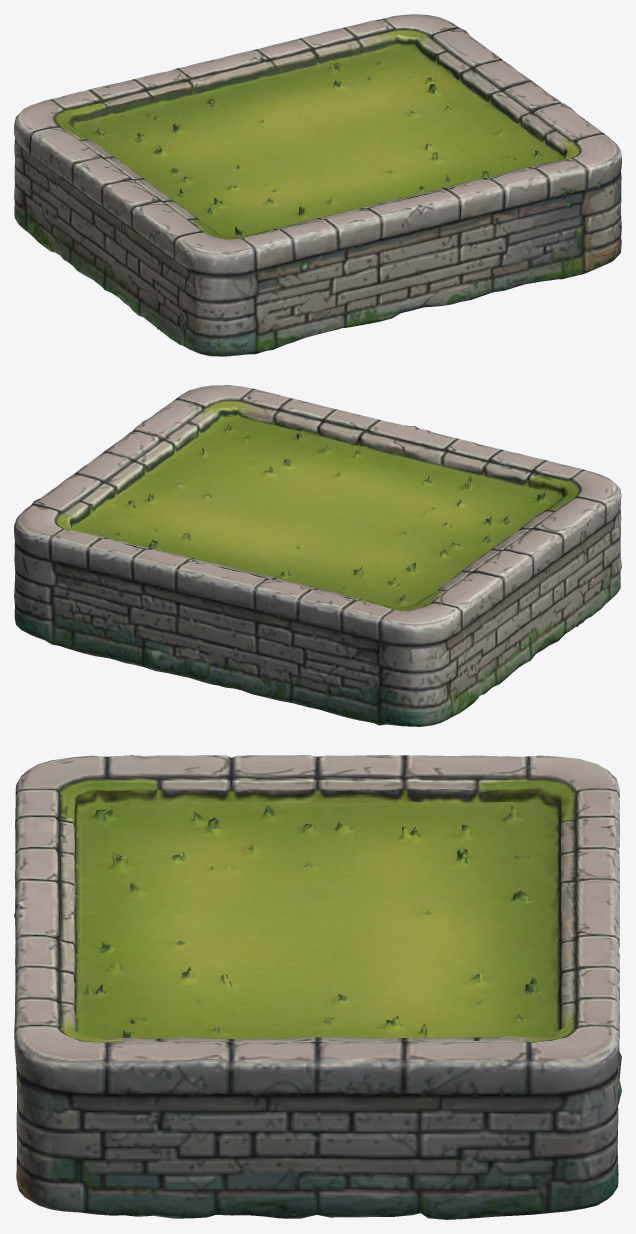
File: 롯데_섬지형.glb
3 renders of one model, top to bottom at view 1: azimuth 30°, elevation 25°; view 2: azimuth 150°, elevation 25°; view 3: azimuth 270°, elevation 25°, orthographic. The views are drawn at different scales.
Visible parts, largest first — view 1: texture_mapping; view 2: texture_mapping; view 3: texture_mapping.
Part boxes in pixels (x1,y1,x2,y2): texture_mapping: (14, 14, 621, 356); texture_mapping: (14, 385, 621, 726); texture_mapping: (14, 755, 621, 1219).
Size of the model in its own units: 1 by 0.2454 by 0.8305.
1 material, 1 textured.
